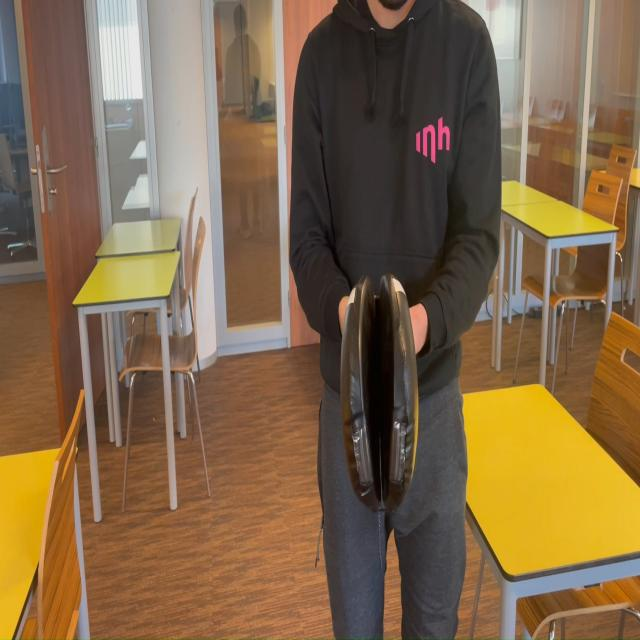paddle: (345, 286, 419, 506)
